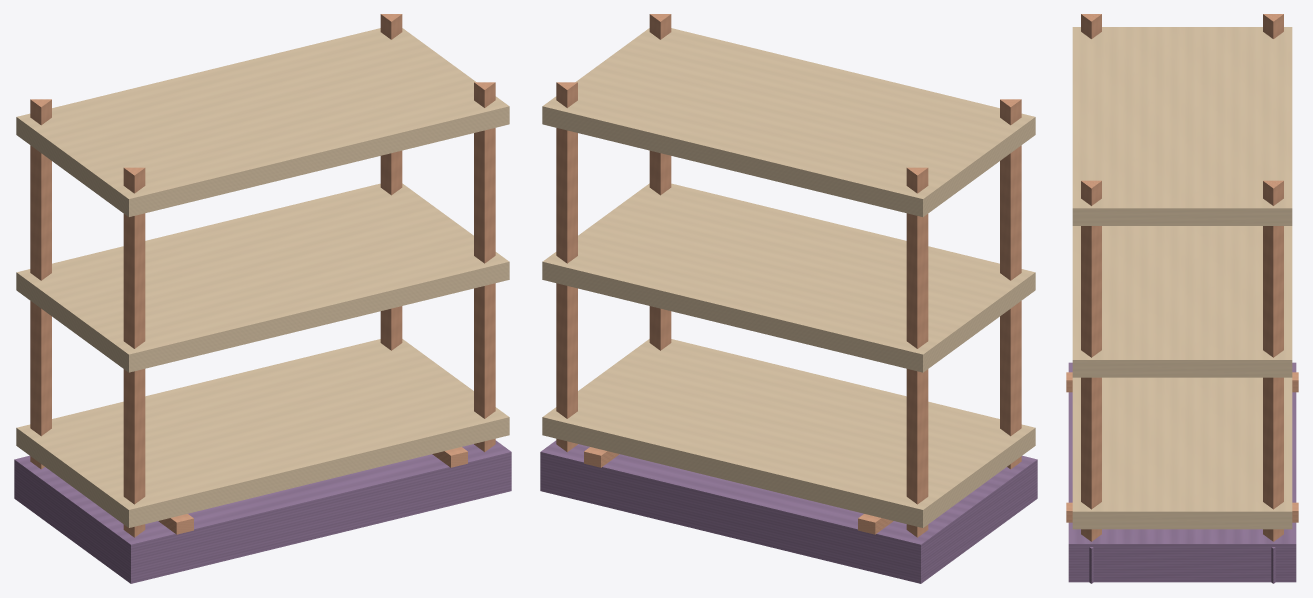
Rendered from atlas100-s083-a06.lod2.glb.
The picture shows the model from 3 angles, left to right: view 1: azimuth 30°, elevation 25°; view 2: azimuth 150°, elevation 25°; view 3: azimuth 270°, elevation 25°; orthographic projection. The views are drawn at different scales.
Visible parts, largest first — view 1: atlas100-s083-a06:part-013, atlas100-s083-a06:part-011, atlas100-s083-a06:part-012, atlas100-s083-a06:part-000, atlas100-s083-a06:part-005, atlas100-s083-a06:part-009, atlas100-s083-a06:part-003, atlas100-s083-a06:part-007; view 2: atlas100-s083-a06:part-013, atlas100-s083-a06:part-011, atlas100-s083-a06:part-012, atlas100-s083-a06:part-000, atlas100-s083-a06:part-003, atlas100-s083-a06:part-007, atlas100-s083-a06:part-005, atlas100-s083-a06:part-009; view 3: atlas100-s083-a06:part-013, atlas100-s083-a06:part-011, atlas100-s083-a06:part-012, atlas100-s083-a06:part-000, atlas100-s083-a06:part-007, atlas100-s083-a06:part-009, atlas100-s083-a06:part-003, atlas100-s083-a06:part-005.
Part boxes in pixels (bbox=[...]): atlas100-s083-a06:part-013: bbox=[16, 28, 509, 216]; atlas100-s083-a06:part-011: bbox=[16, 339, 509, 527]; atlas100-s083-a06:part-012: bbox=[16, 183, 509, 372]; atlas100-s083-a06:part-000: bbox=[14, 440, 511, 583]; atlas100-s083-a06:part-005: bbox=[123, 167, 145, 537]; atlas100-s083-a06:part-009: bbox=[474, 82, 495, 452]; atlas100-s083-a06:part-003: bbox=[30, 99, 51, 469]; atlas100-s083-a06:part-007: bbox=[380, 14, 402, 350]; atlas100-s083-a06:part-013: bbox=[542, 28, 1035, 216]; atlas100-s083-a06:part-011: bbox=[542, 339, 1035, 527]; atlas100-s083-a06:part-012: bbox=[542, 183, 1035, 372]; atlas100-s083-a06:part-000: bbox=[540, 440, 1037, 583]; atlas100-s083-a06:part-003: bbox=[906, 167, 928, 537]; atlas100-s083-a06:part-007: bbox=[556, 82, 577, 452]; atlas100-s083-a06:part-005: bbox=[1000, 99, 1021, 469]; atlas100-s083-a06:part-009: bbox=[649, 14, 671, 350]; atlas100-s083-a06:part-013: bbox=[1072, 27, 1292, 225]; atlas100-s083-a06:part-011: bbox=[1072, 377, 1292, 529]; atlas100-s083-a06:part-012: bbox=[1072, 226, 1292, 377]; atlas100-s083-a06:part-000: bbox=[1068, 362, 1296, 582]; atlas100-s083-a06:part-007: bbox=[1263, 180, 1283, 541]; atlas100-s083-a06:part-009: bbox=[1081, 180, 1101, 541]; atlas100-s083-a06:part-003: bbox=[1263, 14, 1283, 38]; atlas100-s083-a06:part-005: bbox=[1081, 14, 1101, 38].
Bounding box in the file's own units: 2.66 × 2.66 × 1.43.
Materials: 3 (3 with a texture image).
